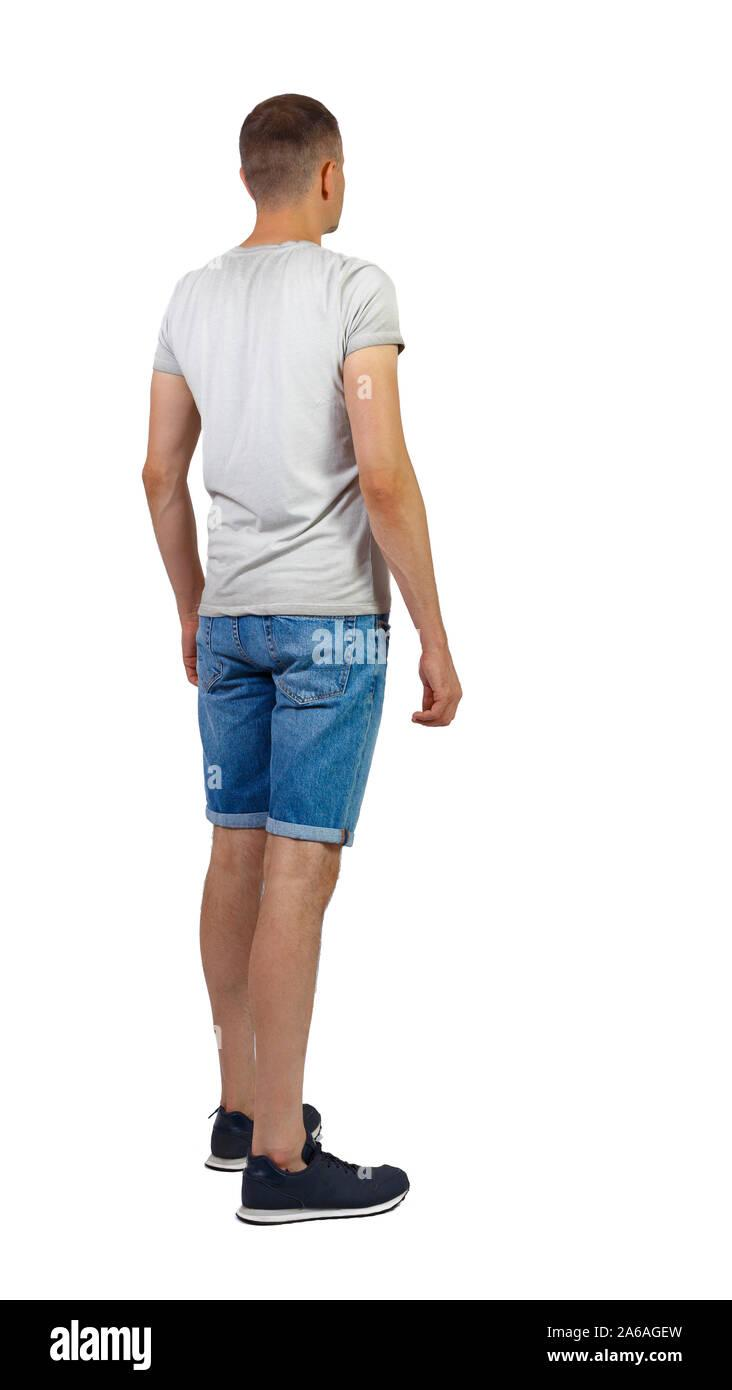Shorts: (189, 607, 391, 855)
short sleeve shirt: (146, 234, 410, 622)
